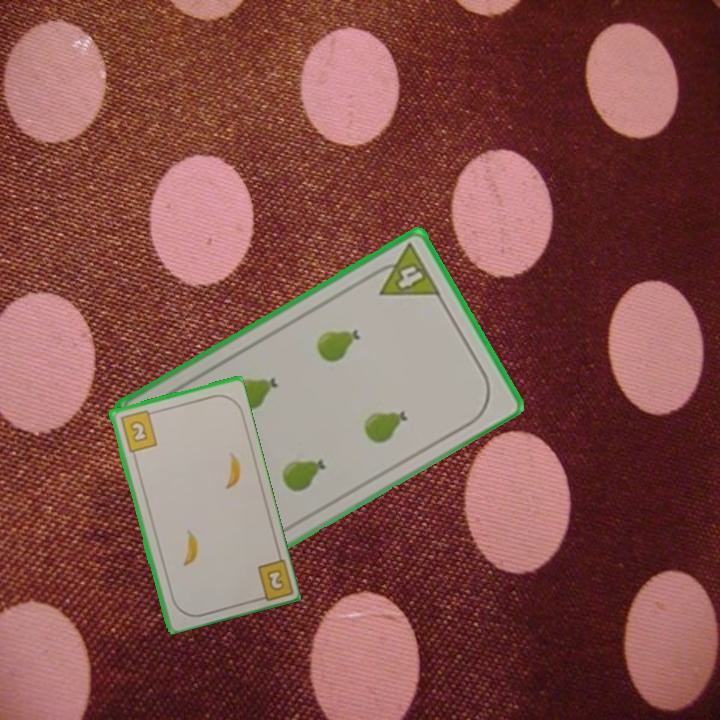2b: (250, 554, 294, 604), (116, 407, 160, 455)
4p: (365, 239, 444, 299)
